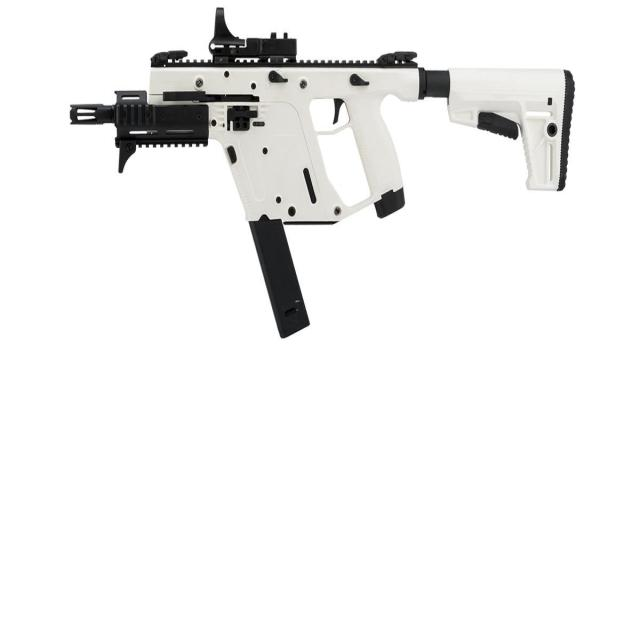SMG: (70, 29, 574, 339)
